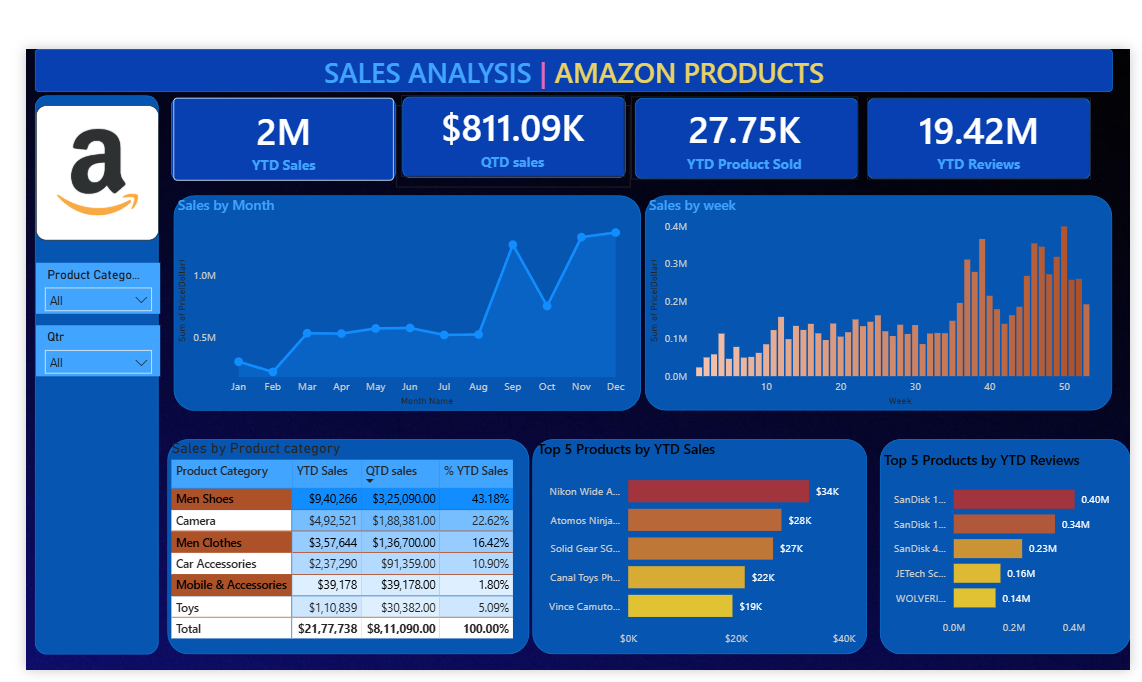

The page's visual inventory and layout, read from the dashboard file:
{"tool":"powerbi","page":{"name":"Page 1","canvas":[1280,720],"ordinal":0},"visuals":[{"type":"shape","box":[9.7,0,1250,50],"z":0},{"type":"textbox","box":[339.9,0,624.4,54],"z":1000},{"type":"shape","box":[10,54,143.6,648.5],"z":2000},{"type":"shape","box":[168.8,56.3,260.7,96.1],"z":3000},{"type":"card","fields":{"Values":["Amazon_Data.YTD Sales"]},"box":[171.5,56.3,255.2,96.1],"z":4000},{"type":"card","fields":{"Values":["Amazon_Data.YTD Sales"]},"box":[429.5,65.4,271.6,95.3],"z":5000},{"type":"shape","box":[435.6,54.9,259.3,94.7],"z":6000},{"type":"shape","box":[705.6,56.3,259.3,94.7],"z":7000},{"type":"shape","box":[975.6,56.3,259.3,94.7],"z":8000},{"type":"card","fields":{"Values":["Amazon_Data.QTD sales"]},"box":[435,53.5,259.3,94.7],"z":9000},{"type":"card","fields":{"Values":["Amazon_Data.YTD Product Sold"]},"box":[701.2,54.9,263.5,96.1],"z":10000},{"type":"card","fields":{"Values":["Amazon_Data.YTD Reviews"]},"box":[975.6,56.3,259.3,94.7],"z":11000},{"type":"shape","box":[171.5,170.2,542,250],"z":12000},{"type":"areaChart","title":"Sales by Month","fields":{"Category":["Date Table.Month Name"],"Y":["Sum(Amazon_Data.Price(Dollar))"]},"box":[171.5,170.2,533.8,249.7],"z":13000},{"type":"shape","box":[717.7,170.2,542,249.7],"z":14000},{"type":"columnChart","title":"Sales by week","fields":{"Category":["Date Table.Week"],"Y":["Sum(Amazon_Data.Price(Dollar))"]},"box":[717.7,170.2,542,249.7],"z":15000},{"type":"shape","box":[163.3,452.8,419.9,249.7],"z":16000},{"type":"pivotTable","title":"Sales by Product category","fields":{"Rows":["Amazon_Data.Product Category"],"Values":["Amazon_Data.YTD Sales1","Amazon_Data.QTD sales","Amazon_Data.YTD Sales"]},"box":[163.3,452.8,419.9,249.7],"z":17000},{"type":"shape","box":[587.3,452.8,388.3,249.7],"z":17001},{"type":"shape","box":[989.4,452.8,290.9,249.7],"z":17002},{"type":"clusteredBarChart","title":"Top 5 Products by YTD Sales","fields":{"Category":["Amazon_Data.Product Description"],"Y":["Amazon_Data.YTD Sales"]},"box":[588.7,452.8,387,249.7],"z":17003},{"type":"clusteredBarChart","title":"Top 5 Products by YTD Reviews","fields":{"Category":["Amazon_Data.Product Description"],"Y":["Amazon_Data.YTD Reviews"]},"box":[989.4,465.2,290.9,223.7],"z":17004},{"type":"slicer","fields":{"Values":["Amazon_Data.Product Category"]},"box":[11,248.4,144.1,59],"z":17005},{"type":"slicer","fields":{"Values":["Date Table.Qtr"]},"box":[11,319.7,144.1,59],"z":17006},{"type":"image","box":[11,65.9,142.7,156.4],"z":17007}]}

Visuals, with their boxes in screenshot pixels (x1, y1, x2, y2):
shape: select_region(26, 45, 1126, 89)
textbox: select_region(317, 45, 866, 92)
shape: select_region(27, 92, 153, 663)
shape: select_region(166, 94, 396, 179)
card - Amazon_Data.YTD Sales: select_region(169, 94, 393, 179)
card - Amazon_Data.YTD Sales: select_region(396, 102, 635, 186)
shape: select_region(401, 93, 629, 176)
shape: select_region(639, 94, 867, 177)
shape: select_region(876, 94, 1104, 177)
card - Amazon_Data.QTD sales: select_region(401, 92, 629, 175)
card - Amazon_Data.YTD Product Sold: select_region(635, 93, 867, 177)
card - Amazon_Data.YTD Reviews: select_region(876, 94, 1104, 177)
shape: select_region(169, 194, 646, 414)
"Sales by Month" areaChart: select_region(169, 194, 638, 414)
shape: select_region(649, 194, 1126, 414)
"Sales by week" columnChart: select_region(649, 194, 1126, 414)
shape: select_region(162, 443, 531, 663)
"Sales by Product category" pivotTable: select_region(162, 443, 531, 663)
shape: select_region(535, 443, 876, 663)
shape: select_region(888, 443, 1141, 663)
"Top 5 Products by YTD Sales" clusteredBarChart: select_region(536, 443, 876, 663)
"Top 5 Products by YTD Reviews" clusteredBarChart: select_region(888, 454, 1141, 651)
slicer - Amazon_Data.Product Category: select_region(28, 263, 154, 315)
slicer - Date Table.Qtr: select_region(28, 326, 154, 378)
image: select_region(28, 103, 153, 240)
